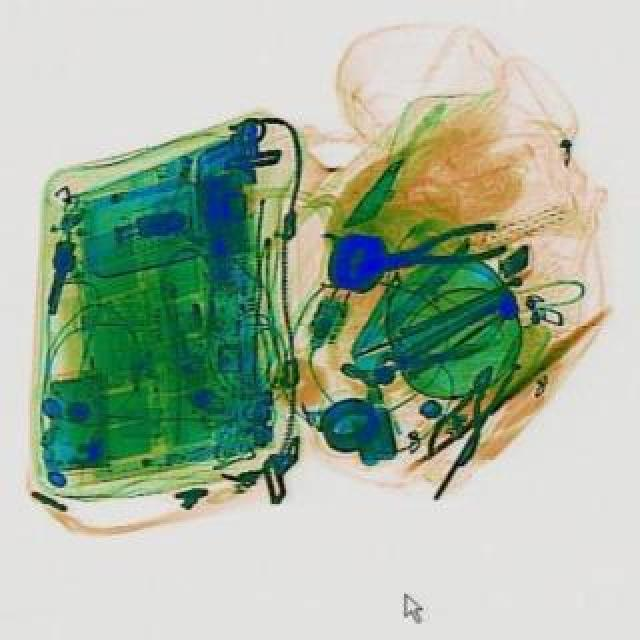wrench: (420, 356, 512, 468), (368, 218, 508, 282)
